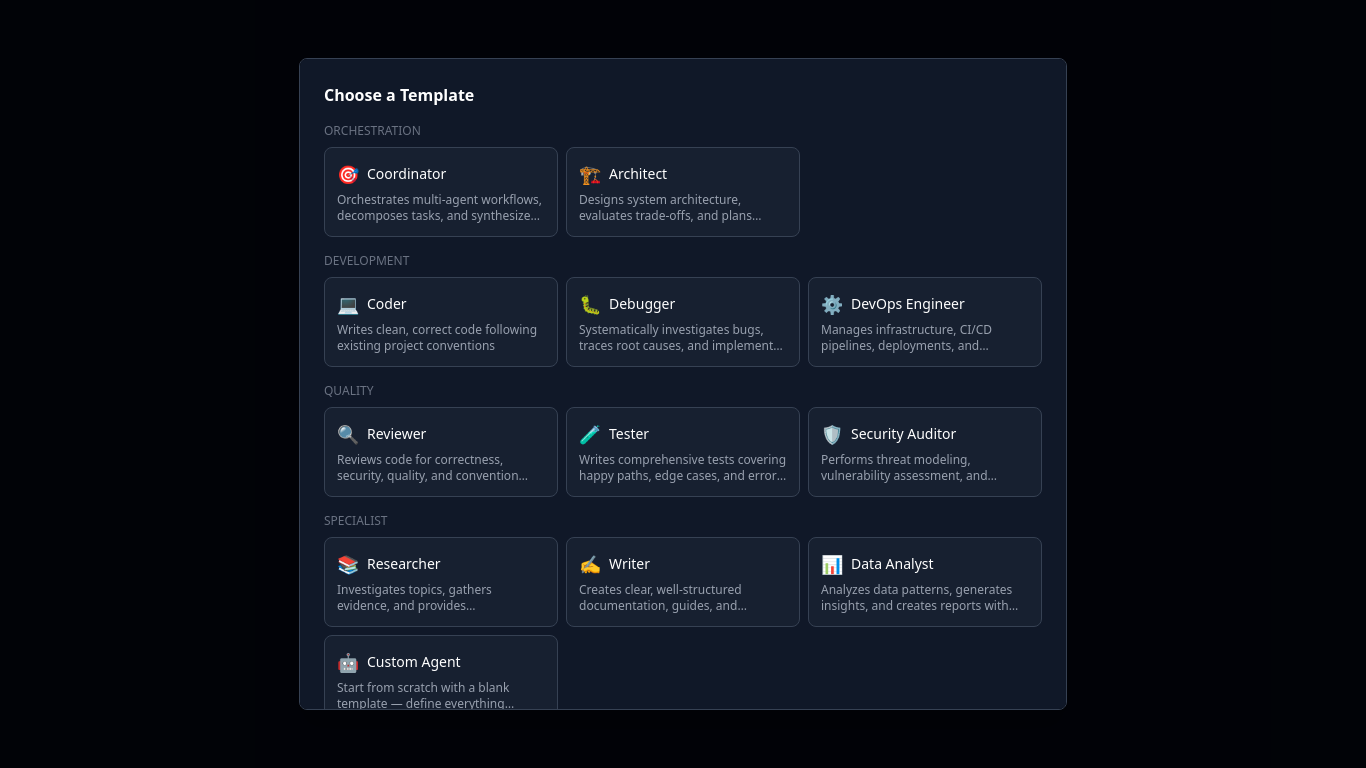
Test: CreateAgentModal › pre-fills ID from template
The width and height of the screenshot is (1366, 768).
Click the button with test id "template-card" at (441, 192), box [324, 147, 558, 237]
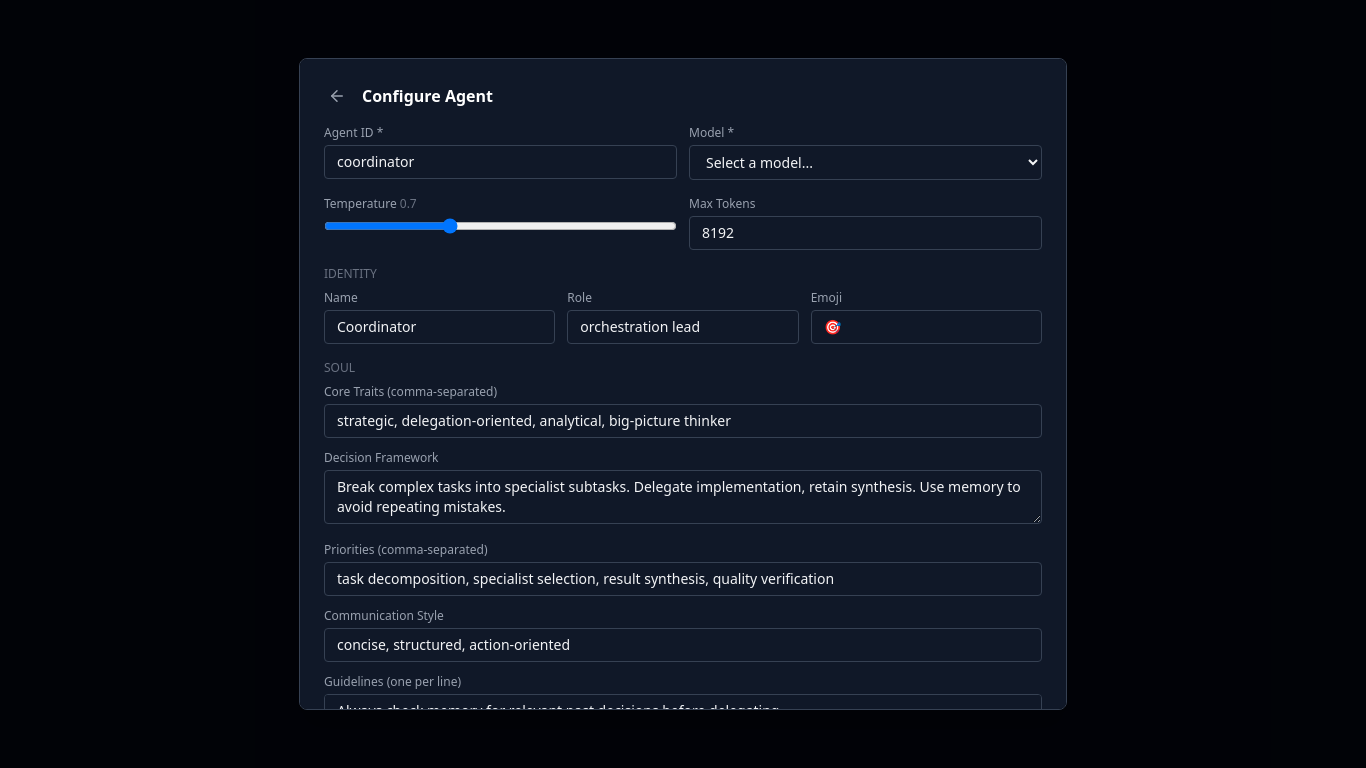
Expected: the field with test id "agent-id-input" holds "coordinator", [324, 145, 677, 179]
